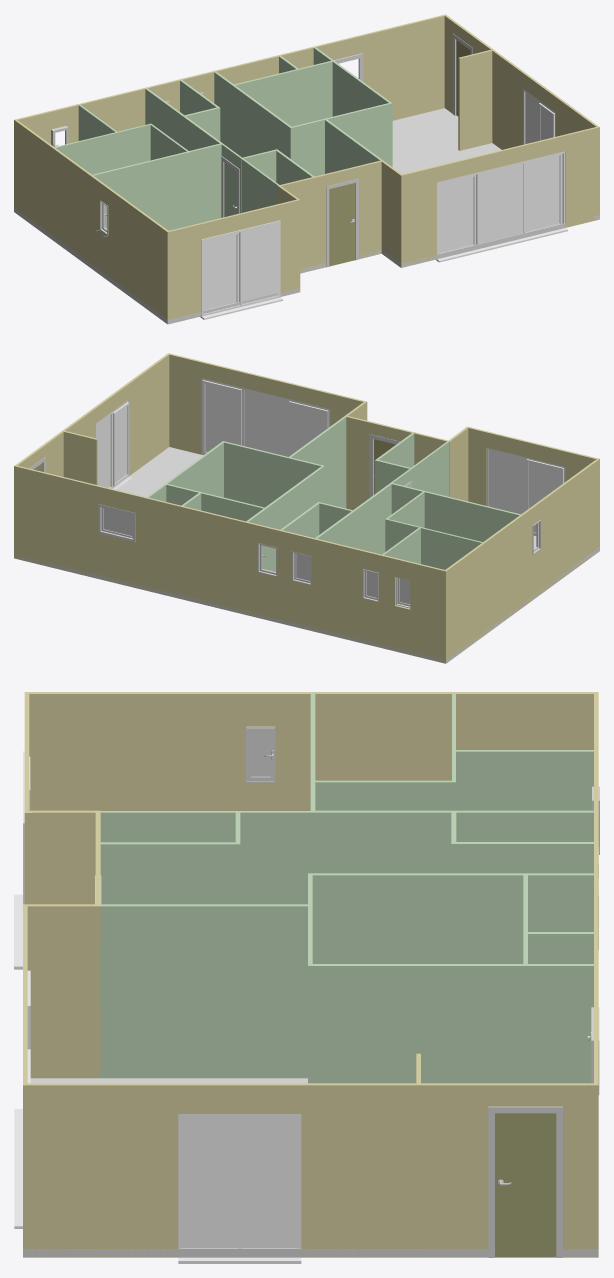
File: zumen.glb
3 renders of one model, top to bottom at view 1: azimuth 30°, elevation 25°; view 2: azimuth 150°, elevation 25°; view 3: azimuth 270°, elevation 25°, orthographic. The views are drawn at different scales.
Parts seen in each view (by area): view 1: Room, Room.002, Window, Room.006, Window.001, Floor, Room.007, Room.005, Baseboard, Room.008, Door, Room.004 (+8 smaller); view 2: Room, Room.002, Window, Room.006, Window.001, Room.007, Baseboard, Window.002, Room.001, Floor, Room.005, Room.008 (+8 smaller); view 3: Room, Room.002, Room.001, Window.002, Room.006, Room.008, Room.010, Door.002, Room.009, Room.003, Baseboard, Room.007 (+6 smaller).
Part boxes in pixels (left/top/right/bottom): Room: left=14, top=14, right=599, bottom=324; Room.002: left=214, top=55, right=392, bottom=176; Window: left=436, top=151, right=567, bottom=262; Room.006: left=90, top=80, right=222, bottom=230; Window.001: left=200, top=220, right=282, bottom=319; Floor: left=392, top=108, right=501, bottom=174; Room.007: left=53, top=123, right=188, bottom=174; Room.005: left=458, top=49, right=492, bottom=150; Baseboard: left=14, top=207, right=599, bottom=324; Room.008: left=221, top=144, right=279, bottom=217; Door: left=329, top=182, right=355, bottom=266; Room.004: left=234, top=69, right=298, bottom=126; Room: left=14, top=353, right=599, bottom=663; Room.002: left=164, top=441, right=324, bottom=571; Window: left=200, top=378, right=330, bottom=456; Room.006: left=280, top=482, right=520, bottom=554; Window.001: left=486, top=448, right=565, bottom=537; Room.007: left=385, top=491, right=483, bottom=569; Baseboard: left=14, top=547, right=599, bottom=663; Window.002: left=96, top=400, right=132, bottom=489; Room.001: left=289, top=416, right=346, bottom=508; Floor: left=112, top=447, right=536, bottom=548; Room.005: left=63, top=430, right=97, bottom=484; Room.008: left=391, top=441, right=448, bottom=496; Room: left=23, top=692, right=598, bottom=1257; Room.002: left=308, top=873, right=598, bottom=1083; Room.001: left=99, top=904, right=308, bottom=1078; Window.002: left=178, top=1114, right=301, bottom=1263; Room.006: left=310, top=692, right=594, bottom=873; Room.008: left=99, top=811, right=311, bottom=904; Room.010: left=98, top=811, right=240, bottom=904; Door.002: left=495, top=1113, right=556, bottom=1257; Room.009: left=454, top=750, right=593, bottom=810; Room.003: left=527, top=964, right=596, bottom=1083; Baseboard: left=23, top=1248, right=598, bottom=1257; Room.007: left=314, top=692, right=455, bottom=810.
Bounding box in the file's own units: 11.99 × 2.44 × 7.4.
